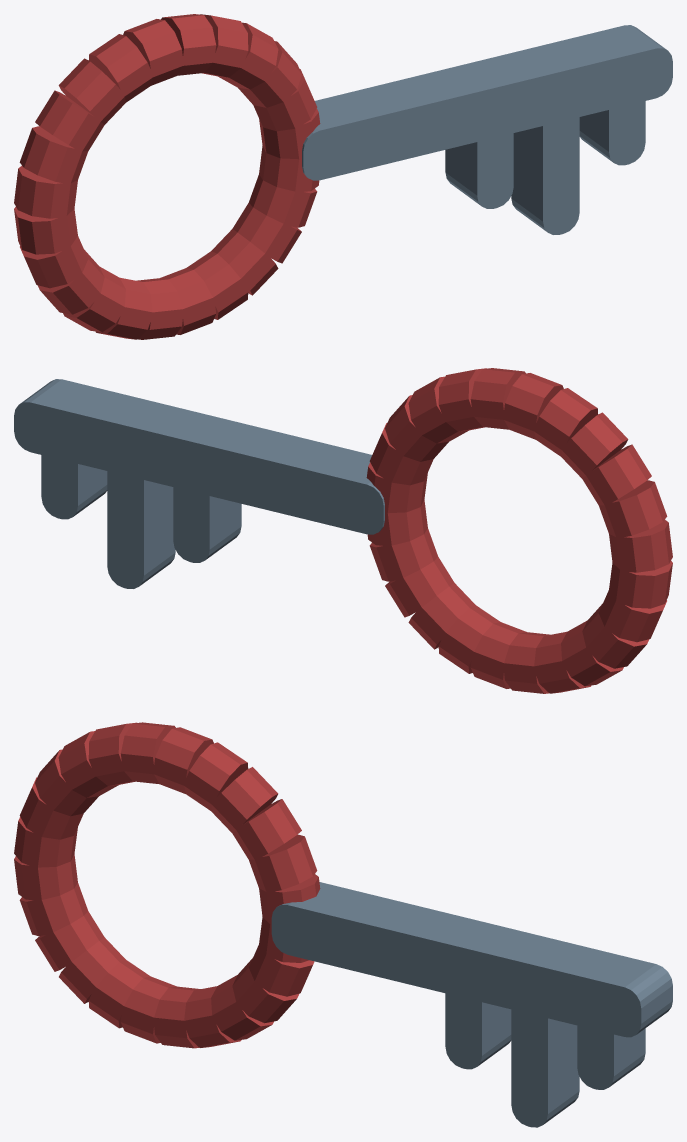
The model's file is key.glb.
3 renders of one model, top to bottom at view 1: azimuth 30°, elevation 25°; view 2: azimuth 150°, elevation 25°; view 3: azimuth 330°, elevation 25°, orthographic.
Parts seen in each view (by area): view 1: shaft, tooth 1, tooth 0, tooth 2, key ring10, key ring7, key ring8, key ring9, key ring11, key ring6, key ring12, key ring5 (+16 smaller); view 2: shaft, tooth 1, tooth 0, tooth 2, key ring10, key ring7, key ring8, key ring9, key ring11, key ring6, key ring12, key ring5 (+16 smaller); view 3: shaft, tooth 1, tooth 0, tooth 2, key ring1, key ring4, key ring3, key ring2, key ring5, key ring6, key ring14, key ring15 (+16 smaller).
Part boxes in pixels (x1=…): shaft: x1=302, y1=25, x2=672, y2=180; tooth 1: x1=511, y1=103, x2=579, y2=234; tooth 0: x1=445, y1=119, x2=513, y2=208; tooth 2: x1=579, y1=87, x2=645, y2=165; key ring10: x1=19, y1=126, x2=88, y2=184; key ring7: x1=88, y1=34, x2=153, y2=102; key ring8: x1=58, y1=58, x2=125, y2=124; key ring9: x1=35, y1=90, x2=104, y2=151; key ring11: x1=14, y1=166, x2=77, y2=218; key ring6: x1=123, y1=19, x2=183, y2=85; key ring12: x1=14, y1=207, x2=77, y2=254; key ring5: x1=161, y1=14, x2=216, y2=75; shaft: x1=14, y1=379, x2=384, y2=534; tooth 1: x1=107, y1=457, x2=175, y2=588; tooth 0: x1=173, y1=473, x2=241, y2=562; tooth 2: x1=41, y1=442, x2=107, y2=519; key ring10: x1=598, y1=480, x2=667, y2=538; key ring7: x1=533, y1=388, x2=598, y2=456; key ring8: x1=561, y1=412, x2=628, y2=478; key ring9: x1=582, y1=444, x2=651, y2=505; key ring11: x1=609, y1=520, x2=672, y2=572; key ring6: x1=503, y1=373, x2=563, y2=439; key ring12: x1=609, y1=561, x2=672, y2=608; key ring5: x1=470, y1=368, x2=525, y2=429; shaft: x1=271, y1=882, x2=672, y2=1037; tooth 1: x1=511, y1=996, x2=579, y2=1127; tooth 0: x1=445, y1=981, x2=511, y2=1069; tooth 2: x1=577, y1=1012, x2=645, y2=1089; key ring1: x1=249, y1=834, x2=317, y2=891; key ring4: x1=183, y1=742, x2=248, y2=810; key ring3: x1=211, y1=767, x2=278, y2=833; key ring2: x1=232, y1=799, x2=301, y2=859; key ring5: x1=154, y1=727, x2=213, y2=793; key ring6: x1=120, y1=722, x2=175, y2=784; key ring14: x1=35, y1=911, x2=104, y2=971; key ring15: x1=59, y1=937, x2=125, y2=1003.
Size of the model in its own units: 1.75 by 0.8228 by 0.15.
